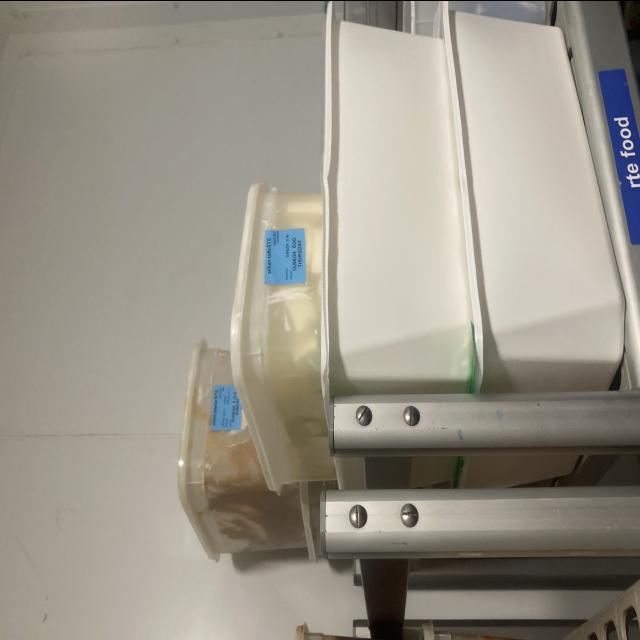product-labels: (263, 226, 306, 286), (212, 383, 244, 431)
